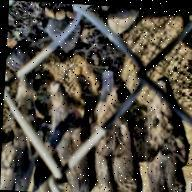boar: (139, 79, 192, 192)
